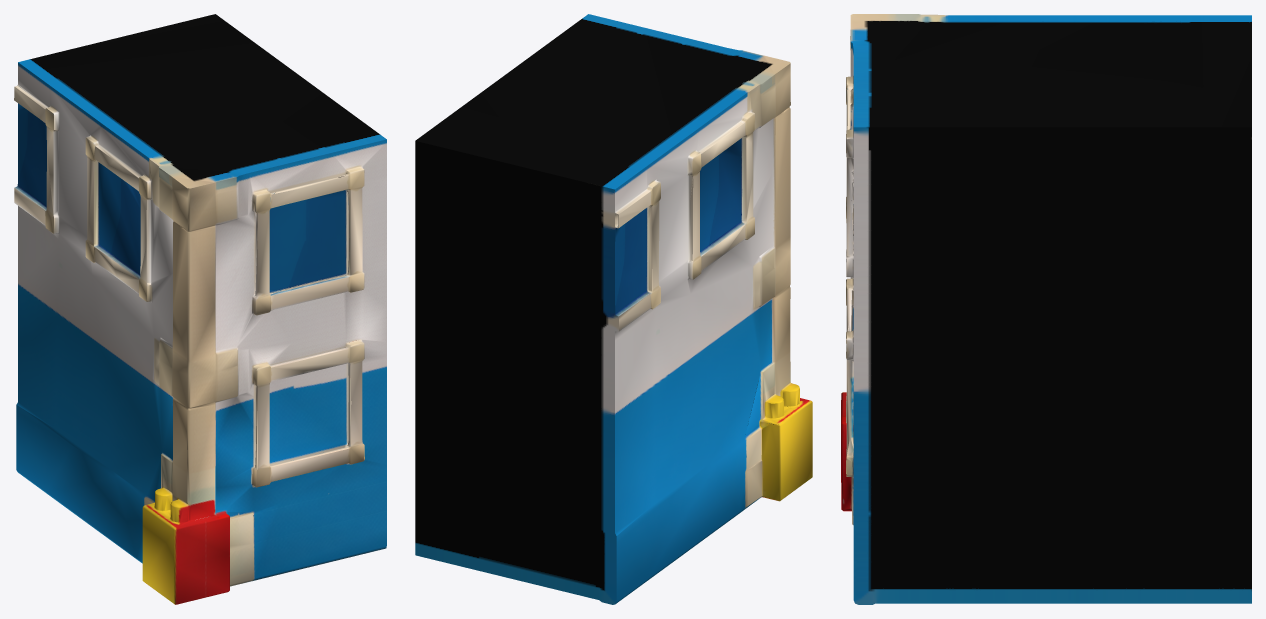
The model's file is 1-ground-floor-front-left.fbx.
3 renders of one model, left to right at view 1: azimuth 30°, elevation 25°; view 2: azimuth 150°, elevation 25°; view 3: azimuth 270°, elevation 25°, orthographic. The views are drawn at different scales.
Parts seen in each view (by area): view 1: ground-floor-front-left; view 2: ground-floor-front-left; view 3: ground-floor-front-left.
Part boxes in pixels (x1,y1,x2,y2): ground-floor-front-left: (14, 14, 386, 604); ground-floor-front-left: (415, 14, 812, 604); ground-floor-front-left: (841, 14, 1251, 604).
Size of the model in its own units: 4733 by 8555 by 6660.
Materials: 1 (1 with a texture image).
